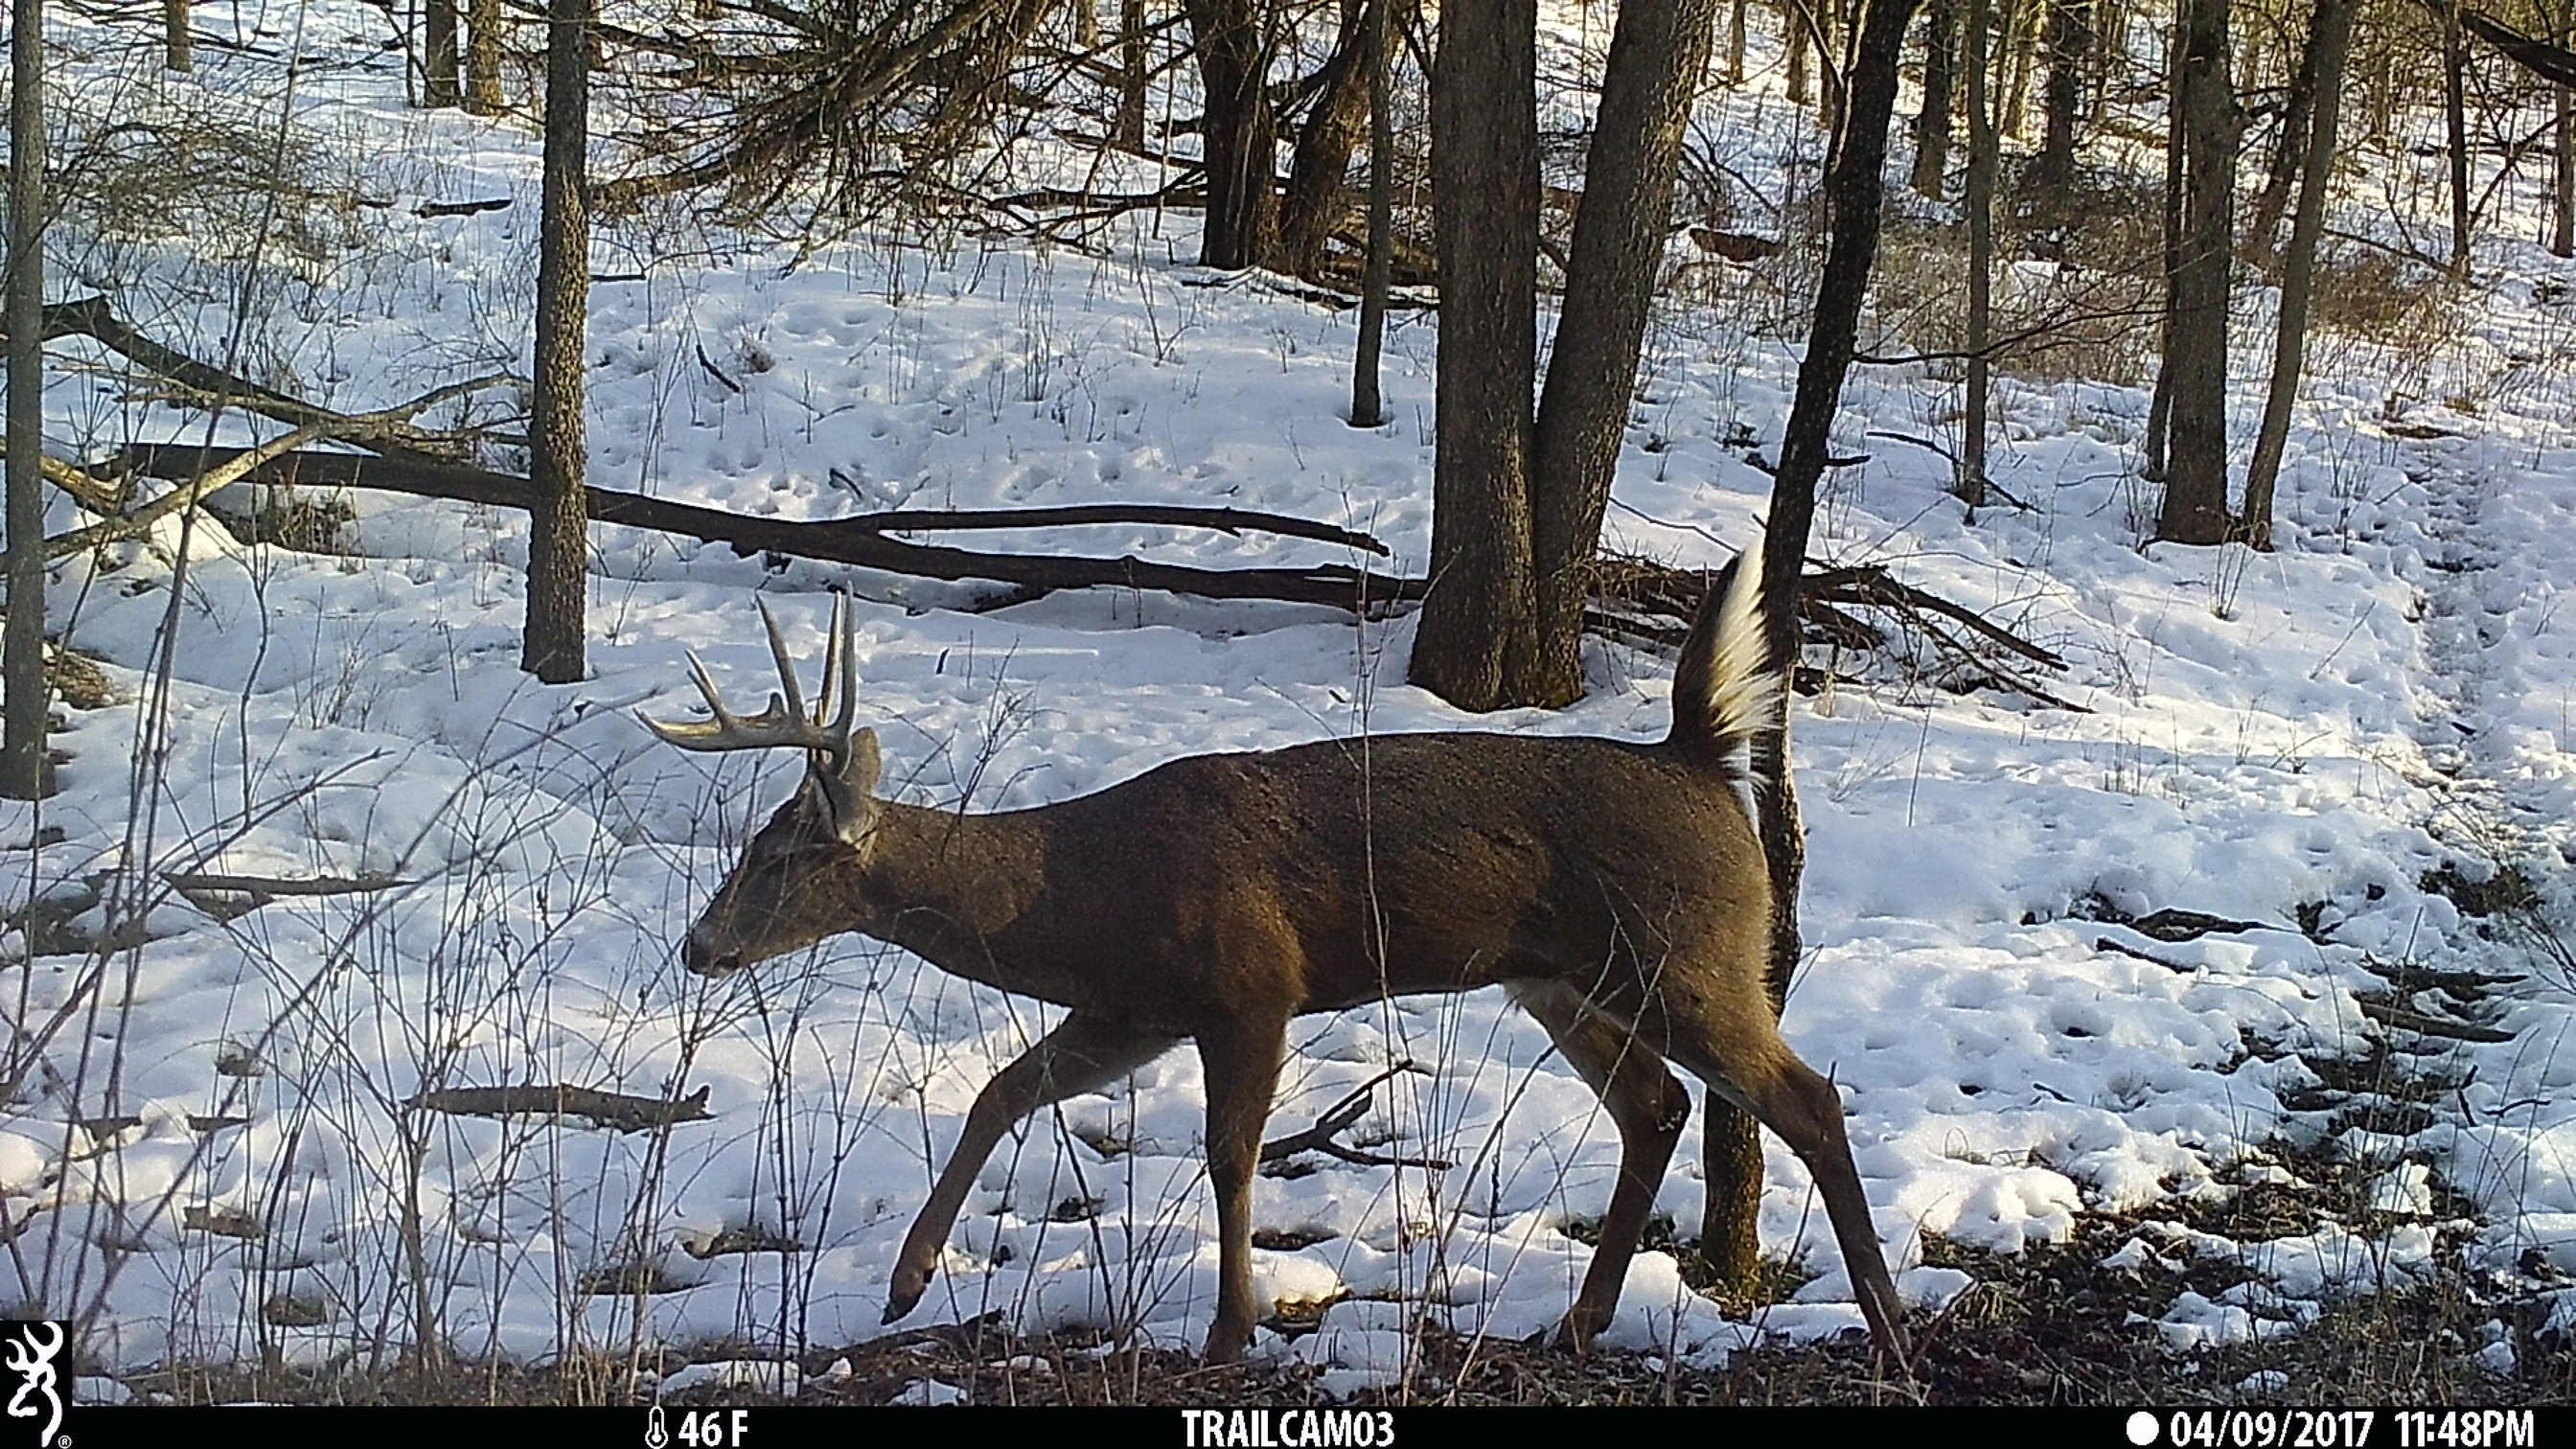DeerBuck: (633, 577, 1915, 1374)
DeerBuckHead: (631, 576, 885, 980)
